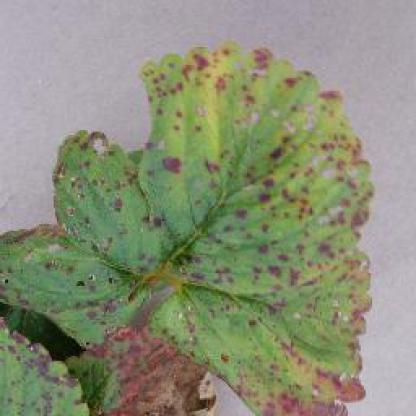leaf scorch: (0, 33, 387, 414)
